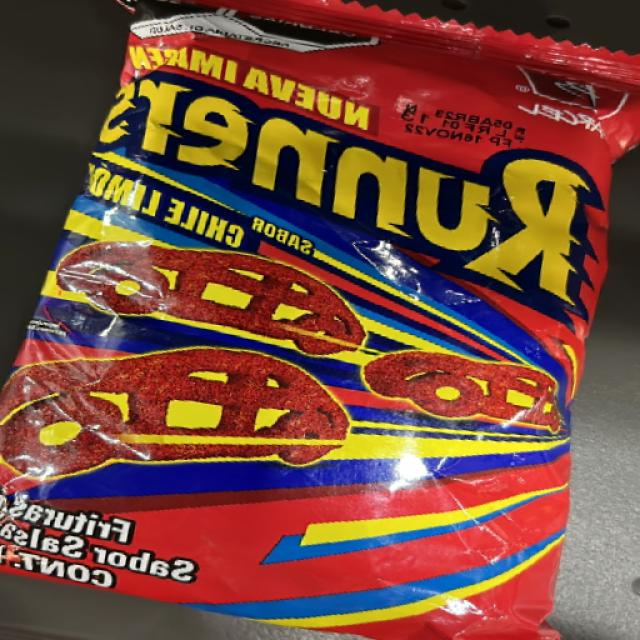runners: (79, 12, 571, 620)
